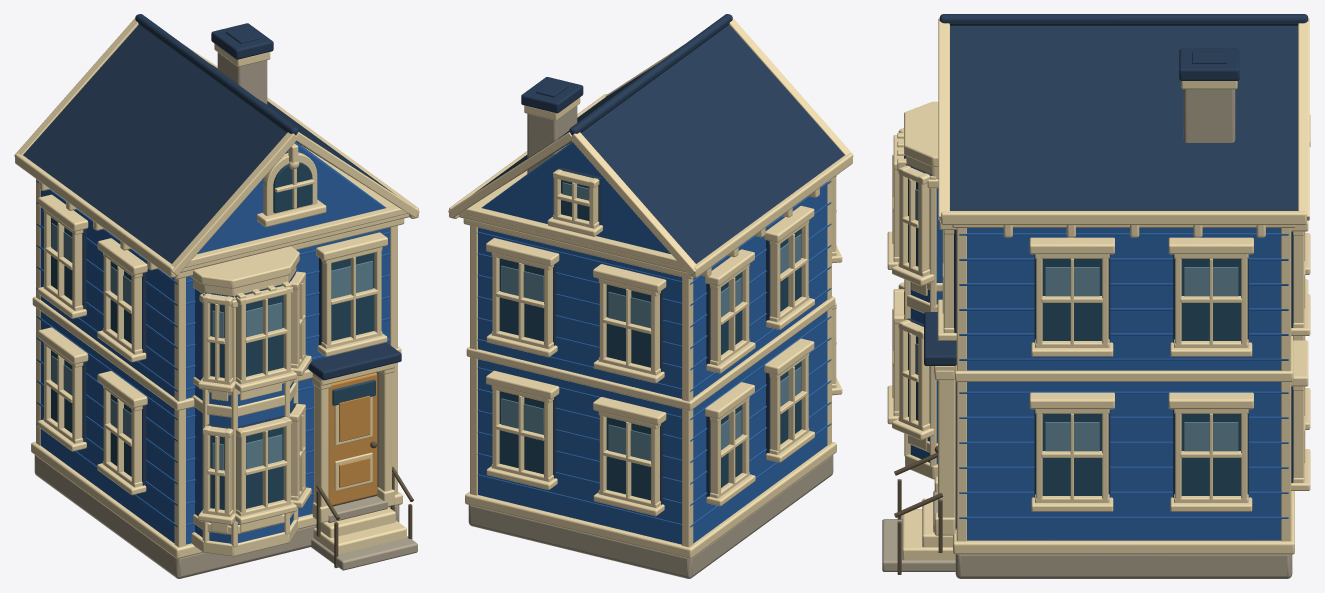
The model's file is painted-lady.glb.
3 views of the same model, side by side, from view 1: azimuth 30°, elevation 25°; view 2: azimuth 150°, elevation 25°; view 3: azimuth 270°, elevation 25° (orthographic). The views are drawn at different scales.
Visible parts, largest first — view 1: painted-lady_VictorianCream, painted-lady_VictorianRoof, painted-lady_Facade, painted-lady_VictorianWindowGlass, painted-lady_FoundationWarmStone, painted-lady_VictorianGlassHighlight, painted-lady_VictorianDoorOchre, painted-lady_VictorianHardware; view 2: painted-lady_VictorianCream, painted-lady_Facade, painted-lady_VictorianRoof, painted-lady_VictorianWindowGlass, painted-lady_FoundationWarmStone, painted-lady_VictorianGlassHighlight; view 3: painted-lady_VictorianCream, painted-lady_VictorianRoof, painted-lady_Facade, painted-lady_FoundationWarmStone, painted-lady_VictorianWindowGlass, painted-lady_VictorianGlassHighlight, painted-lady_VictorianHardware.
Boxes of the visible parts, box(x1,y1,x2,y2) form: painted-lady_VictorianCream: box(14, 18, 419, 558); painted-lady_VictorianRoof: box(23, 14, 401, 509); painted-lady_Facade: box(36, 142, 390, 544); painted-lady_VictorianWindowGlass: box(51, 162, 375, 509); painted-lady_FoundationWarmStone: box(34, 52, 417, 578); painted-lady_VictorianGlassHighlight: box(51, 223, 372, 470); painted-lady_VictorianDoorOchre: box(328, 373, 377, 505); painted-lady_VictorianHardware: box(316, 441, 413, 567); painted-lady_VictorianCream: box(448, 18, 853, 558); painted-lady_Facade: box(477, 142, 831, 544); painted-lady_VictorianRoof: box(474, 14, 844, 504); painted-lady_VictorianWindowGlass: box(499, 180, 801, 500); painted-lady_FoundationWarmStone: box(468, 106, 833, 578); painted-lady_VictorianGlassHighlight: box(501, 182, 801, 460); painted-lady_VictorianCream: box(887, 18, 1310, 560); painted-lady_VictorianRoof: box(904, 14, 1308, 528); painted-lady_Facade: box(910, 188, 1288, 540); painted-lady_FoundationWarmStone: box(882, 89, 1292, 578); painted-lady_VictorianWindowGlass: box(908, 178, 1240, 495); painted-lady_VictorianGlassHighlight: box(915, 189, 1238, 451); painted-lady_VictorianHardware: box(894, 446, 943, 574).
Size of the model in its own units: 3.78 by 6.25 by 4.81.
